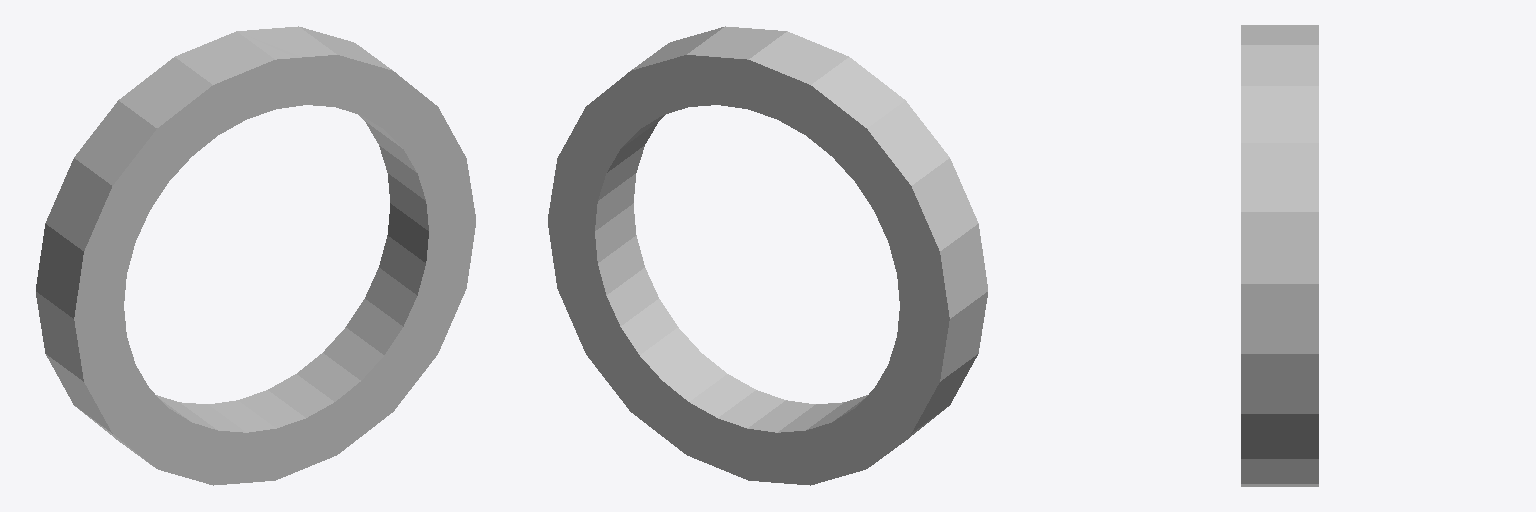
File: Cement_Grower02.obj
3 renders of one model, left to right at view 1: azimuth 30°, elevation 25°; view 2: azimuth 150°, elevation 25°; view 3: azimuth 270°, elevation 25°, orthographic.
Visible parts, largest first — view 1: obj_0; view 2: obj_0; view 3: obj_0.
Boxes of the visible parts, x1,y1,x2,y2 form: obj_0: [36, 26, 475, 485]; obj_0: [548, 26, 987, 485]; obj_0: [1241, 25, 1318, 486].
Bounding box in the file's own units: 10 × 10 × 1.67.